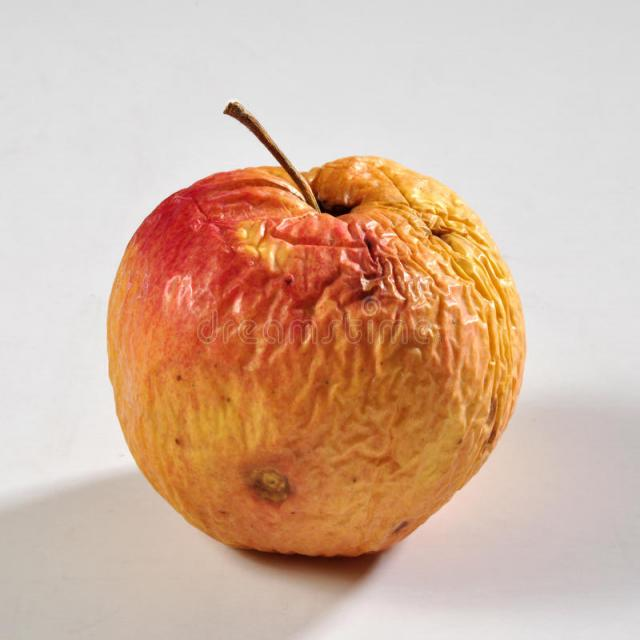Rotten: (106, 164, 506, 560)
